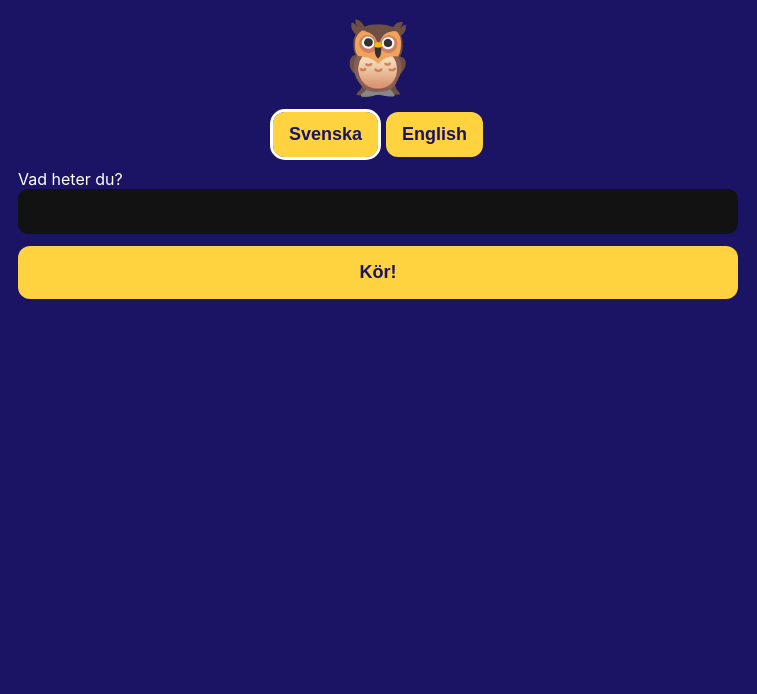
Scenario: App › correct answer gives feedback and xp
In the field labelled "Vad heter du?": (378, 212) [18,189,738,234], type "Elsa"
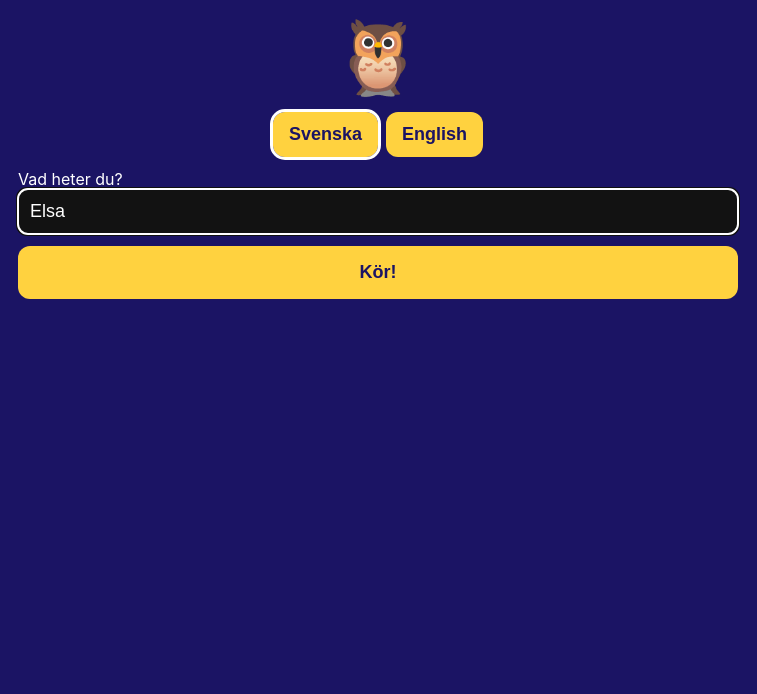
Click the button "Kör!": click(378, 272) [18,246,738,299]
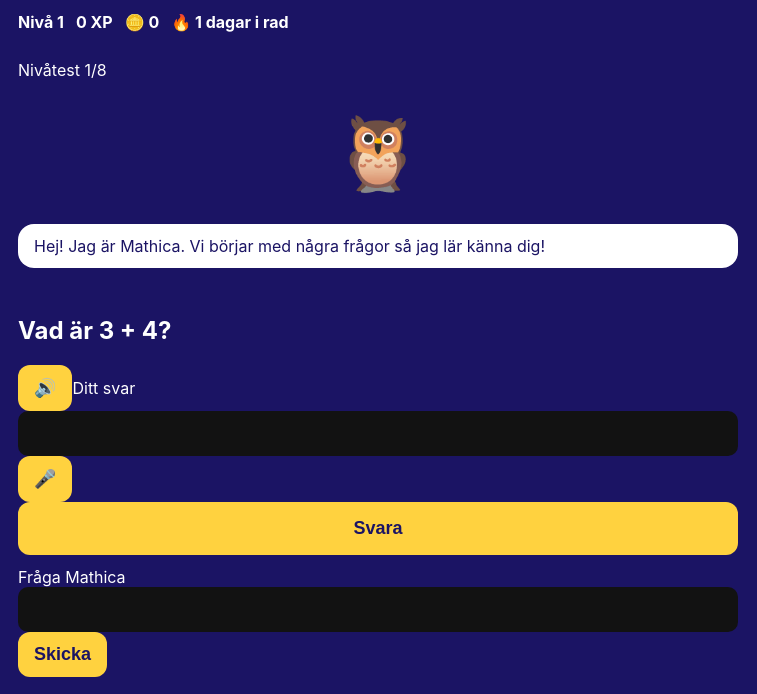
Check: the heading "Vad är 3 + 4?" is shown, box [18,316,172,345]
In the field labelled "Ditt svar": (378, 433) [18,411,738,456], type "7"
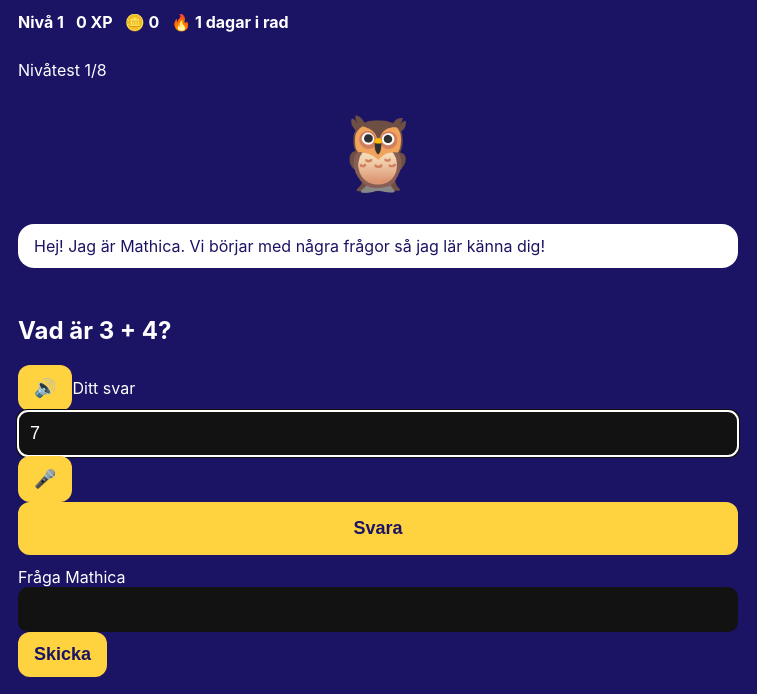
Click the button "Svara": click(378, 528) [18,502,738,555]
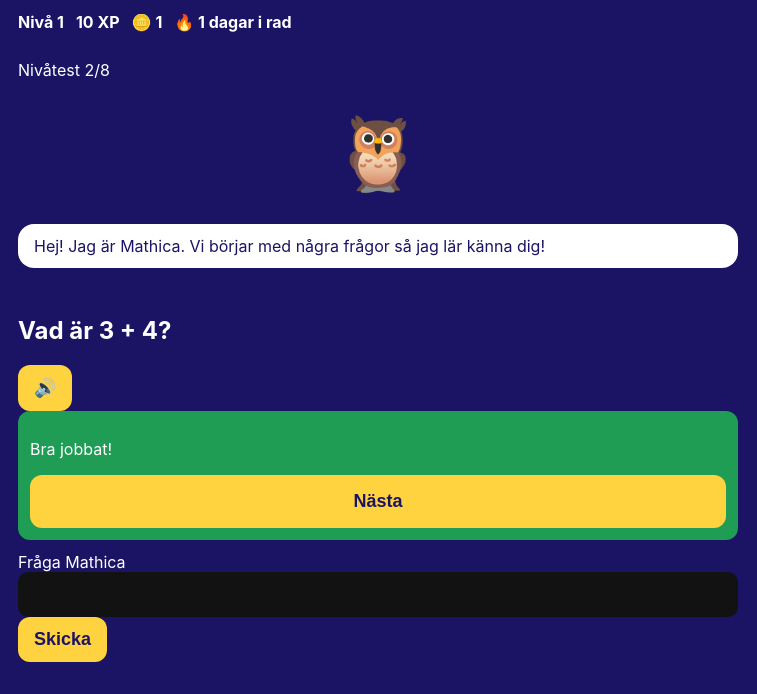
Check: the text "Bra jobbat!" is shown, box [30,439,112,459]
Check: the text with test id "xp" no longer shows "0", box [76,12,120,32]
